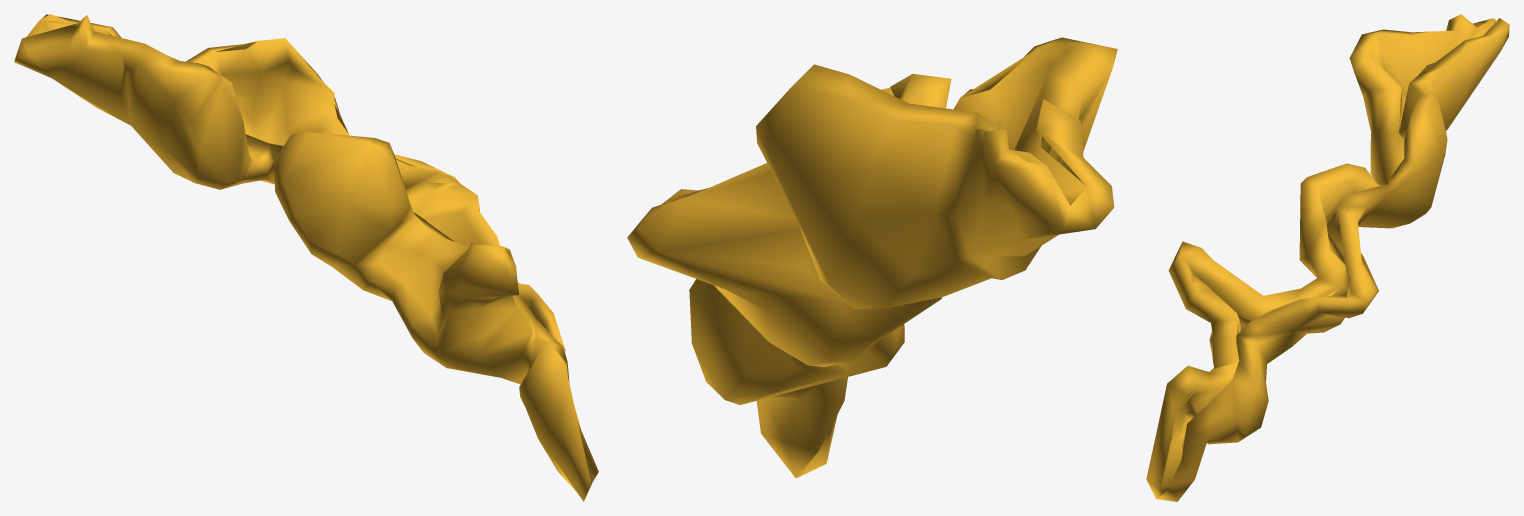
Rendered from nervoso-central-sulcus-l.glb.
The picture shows the model from 3 angles, left to right: view 1: azimuth 30°, elevation 25°; view 2: azimuth 150°, elevation 25°; view 3: azimuth 270°, elevation 25°; orthographic projection. The views are drawn at different scales.
Parts seen in each view (by area): view 1: Central sulcus.l; view 2: Central sulcus.l; view 3: Central sulcus.l.
Boxes of the visible parts, x1=… form: Central sulcus.l: x1=14, y1=14, x2=598, y2=501; Central sulcus.l: x1=627, y1=37, x2=1117, y2=478; Central sulcus.l: x1=1146, y1=14, x2=1509, y2=501.
Size of the model in its own units: 0.0513 by 0.0527 by 0.0484.
